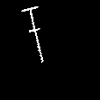double_crochet: (22, 7, 42, 62)
